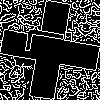L: (25, 25, 75, 61)
